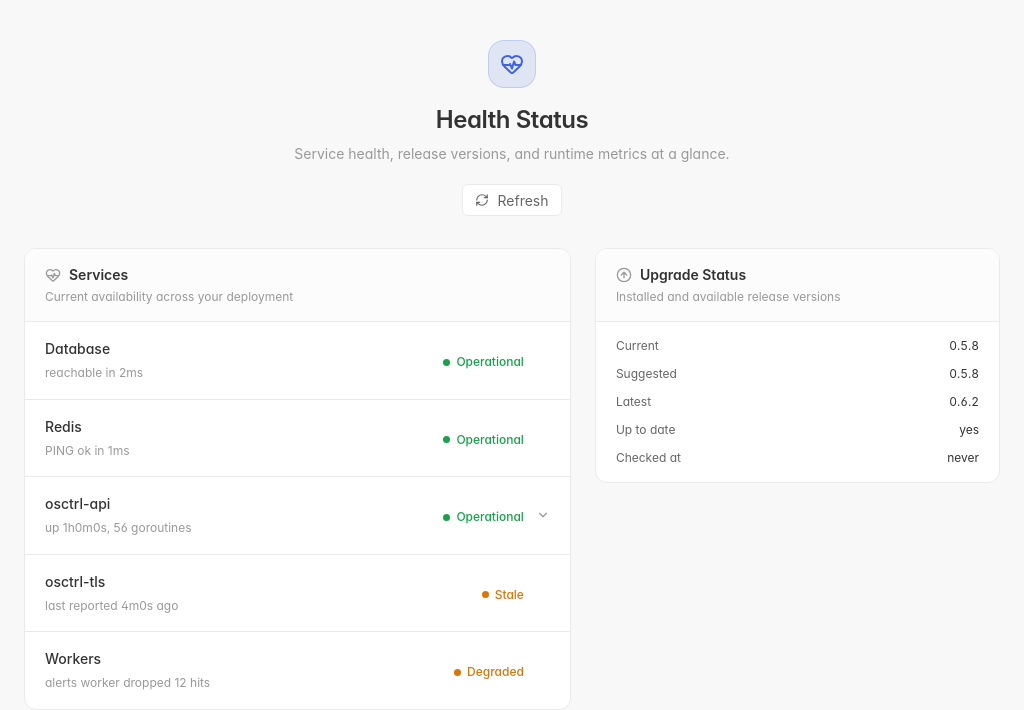
Test: HealthPage › expands a component to show its details without refetching
Step 1. Click the button "osctrl-api up 1h0m0s, 56 goroutines Operational" → (78, 504), box [25,477,570,554]
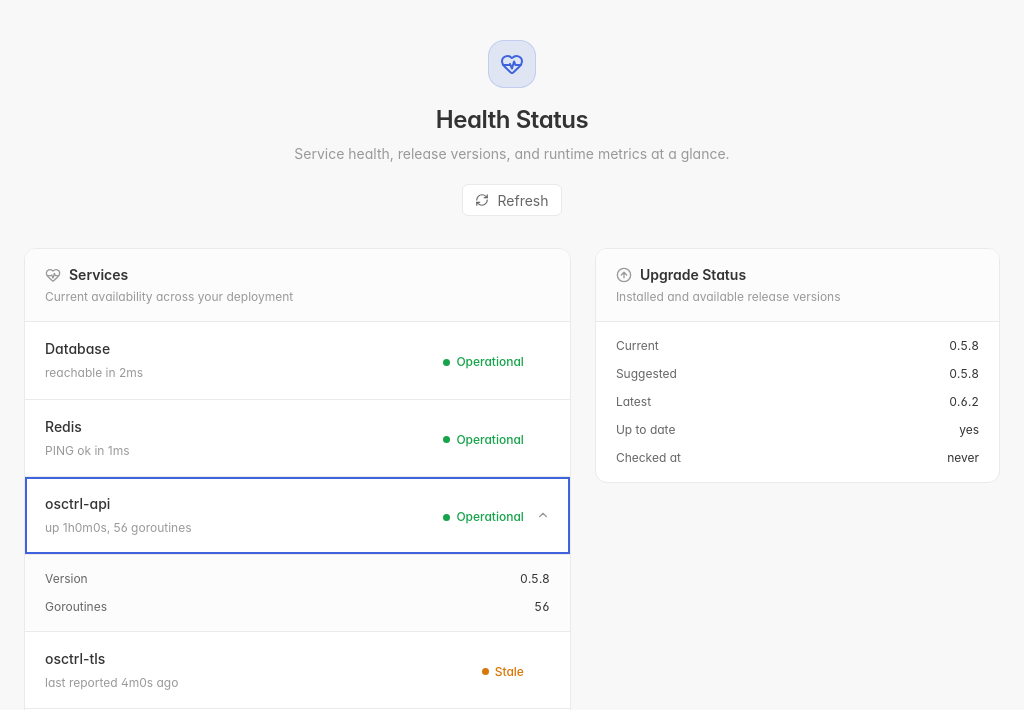
expect the text "Goroutines" is shown: met, box [45,598,107,614]
